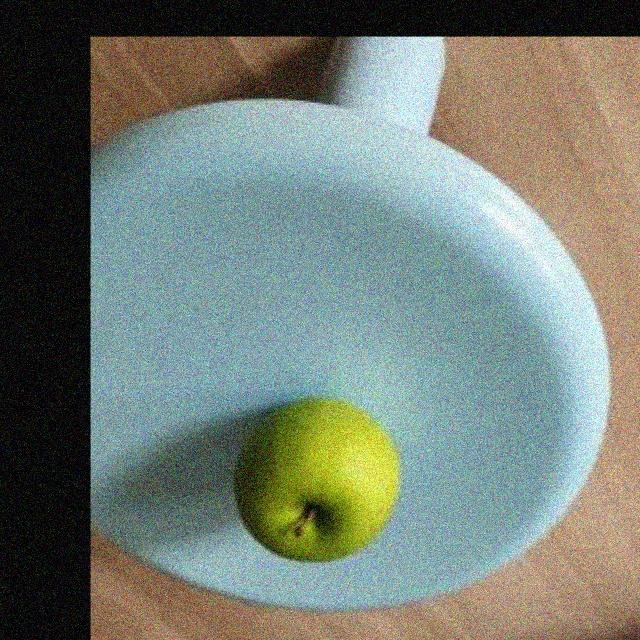green apple: (231, 398, 402, 563)
